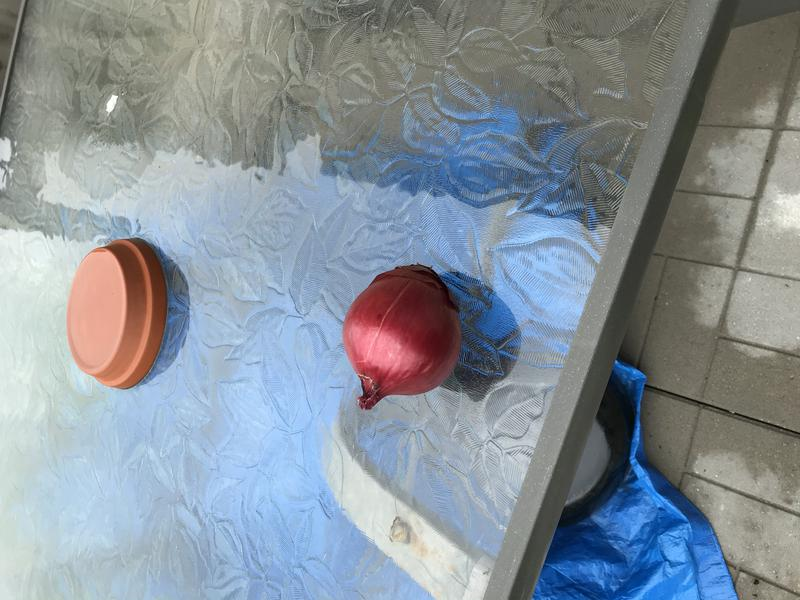purple_onion: (332, 254, 482, 415)
